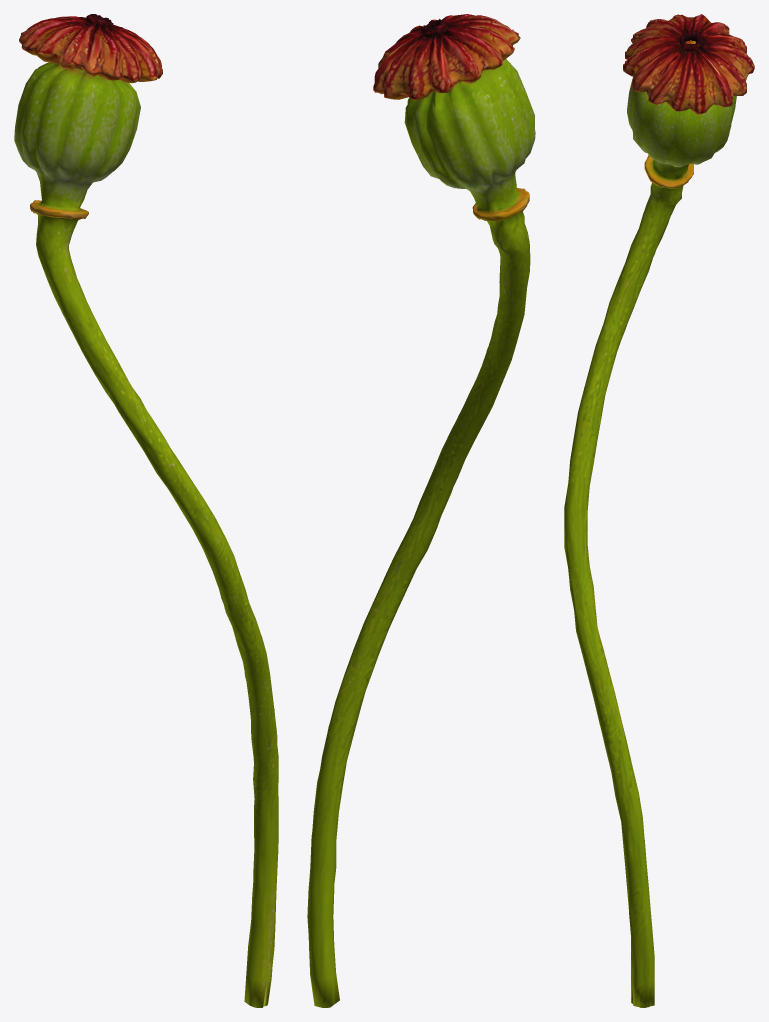
Rendered from flower-09.glb.
3 views of the same model, side by side, from view 1: azimuth 30°, elevation 25°; view 2: azimuth 150°, elevation 25°; view 3: azimuth 270°, elevation 25° (orthographic). The views are drawn at different scales.
Parts seen in each view (by area): view 1: tripo_node_b3cd1b1f-758e-4733-917a-41ed277a12a4; view 2: tripo_node_b3cd1b1f-758e-4733-917a-41ed277a12a4; view 3: tripo_node_b3cd1b1f-758e-4733-917a-41ed277a12a4.
Boxes of the visible parts, x1,y1,x2,y2 form: tripo_node_b3cd1b1f-758e-4733-917a-41ed277a12a4: (14,14,278,1007); tripo_node_b3cd1b1f-758e-4733-917a-41ed277a12a4: (307,14,535,1007); tripo_node_b3cd1b1f-758e-4733-917a-41ed277a12a4: (564,14,754,1007).
Bounding box in the file's own units: 0.2402 × 0.998 × 0.1895.
1 material, 1 textured.
